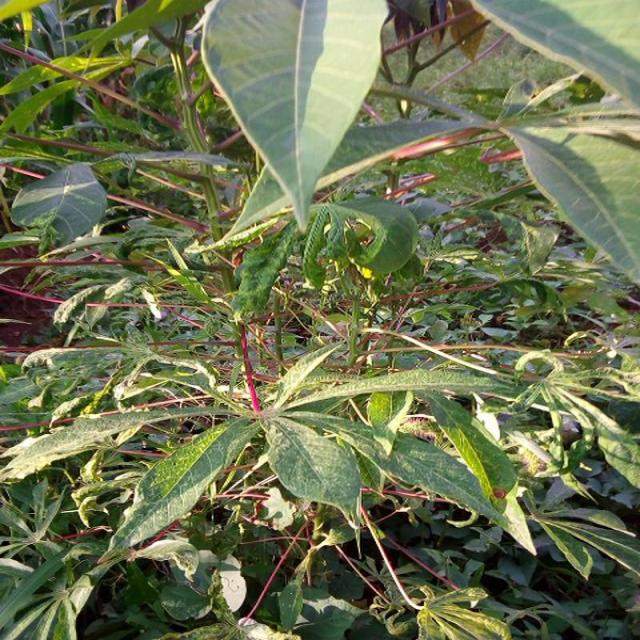cassava leaf: (200, 0, 390, 238), (100, 414, 260, 563), (10, 160, 107, 250)
